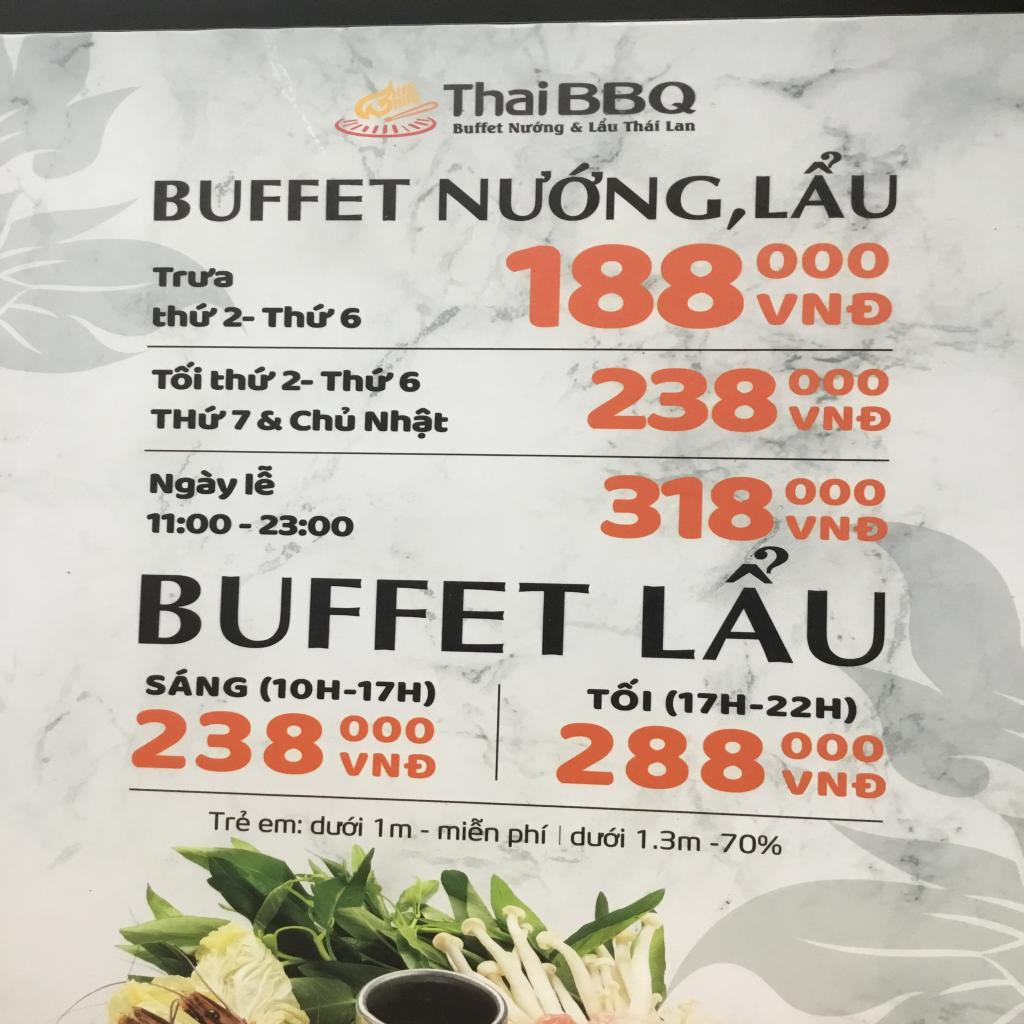text: (136, 572, 594, 658), (638, 543, 890, 670), (497, 240, 749, 332), (436, 159, 749, 233), (553, 718, 768, 796), (125, 704, 327, 778), (585, 365, 779, 433), (598, 472, 776, 542), (152, 177, 414, 224), (753, 146, 903, 222), (663, 688, 859, 726), (258, 672, 438, 708), (755, 240, 895, 281), (555, 80, 699, 118), (755, 290, 895, 328), (442, 78, 552, 118), (779, 730, 887, 765), (779, 768, 890, 802), (144, 666, 252, 700), (782, 476, 889, 509), (338, 712, 436, 747), (781, 514, 890, 544), (788, 366, 890, 398), (786, 404, 894, 434), (336, 749, 437, 781), (363, 406, 451, 442), (148, 468, 240, 502), (584, 676, 654, 714), (257, 514, 356, 538), (144, 511, 235, 536), (149, 403, 230, 431), (318, 366, 397, 394), (259, 303, 337, 330), (152, 265, 236, 290), (287, 404, 357, 433), (209, 363, 277, 392), (436, 816, 502, 845), (634, 827, 704, 854), (151, 301, 219, 328), (149, 360, 206, 392), (719, 831, 784, 857), (568, 824, 626, 851), (309, 813, 365, 838), (506, 821, 552, 849), (206, 807, 252, 834), (243, 463, 277, 497), (373, 816, 415, 841), (507, 119, 565, 137), (256, 816, 304, 836), (280, 368, 315, 393), (222, 305, 256, 330), (452, 120, 505, 136), (253, 408, 284, 433), (338, 306, 365, 330), (622, 118, 662, 133), (397, 369, 422, 393), (230, 408, 254, 431), (587, 117, 619, 134), (664, 120, 698, 132), (569, 120, 585, 134)
